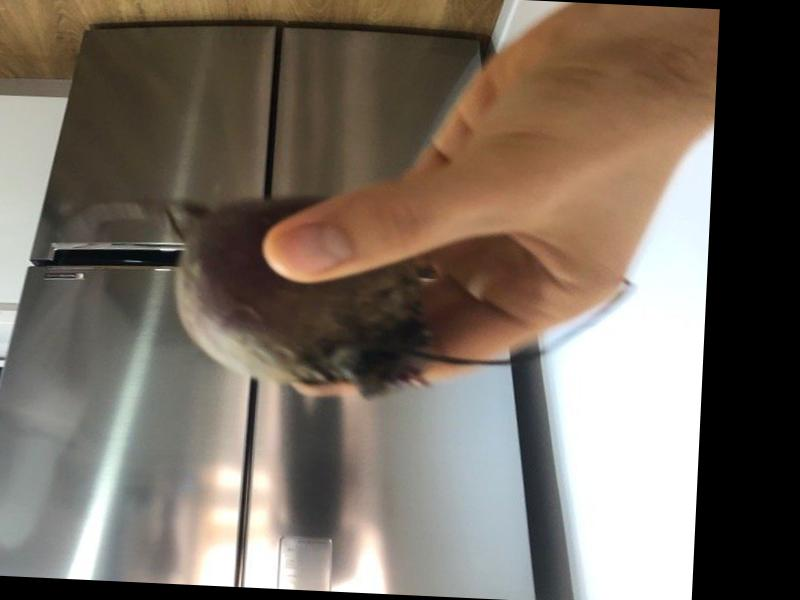Beet: (126, 190, 634, 409)
